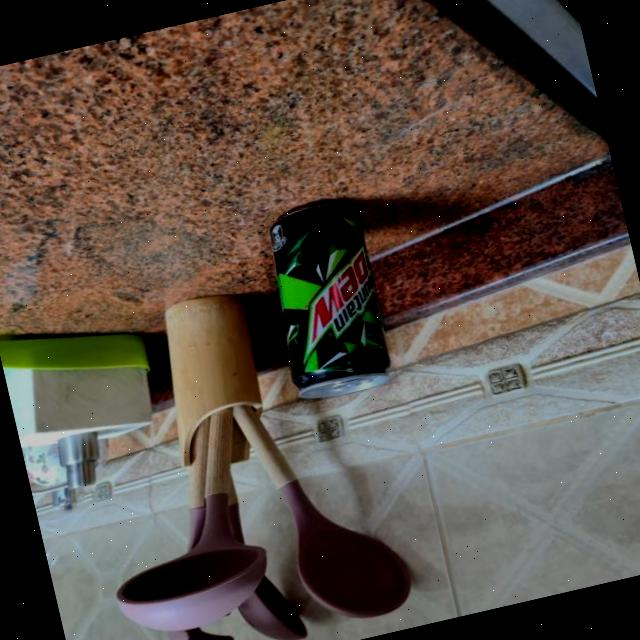trash: (248, 189, 408, 406)
